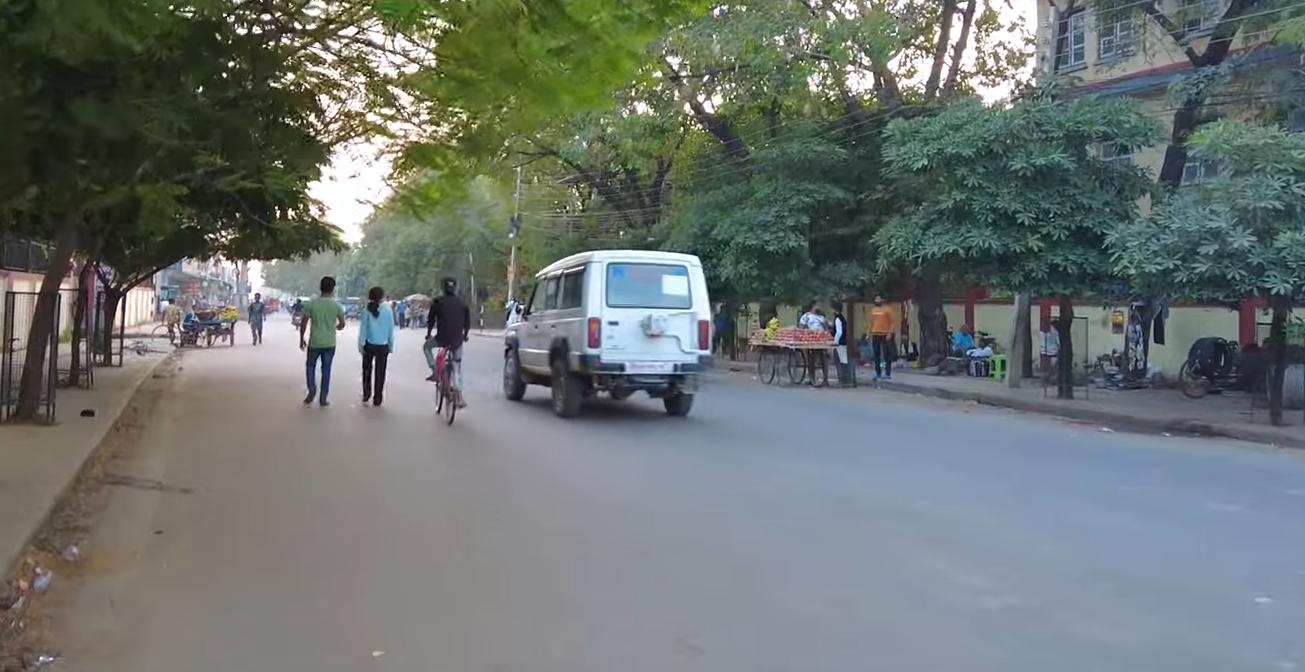ambulance: (492, 232, 713, 440)
